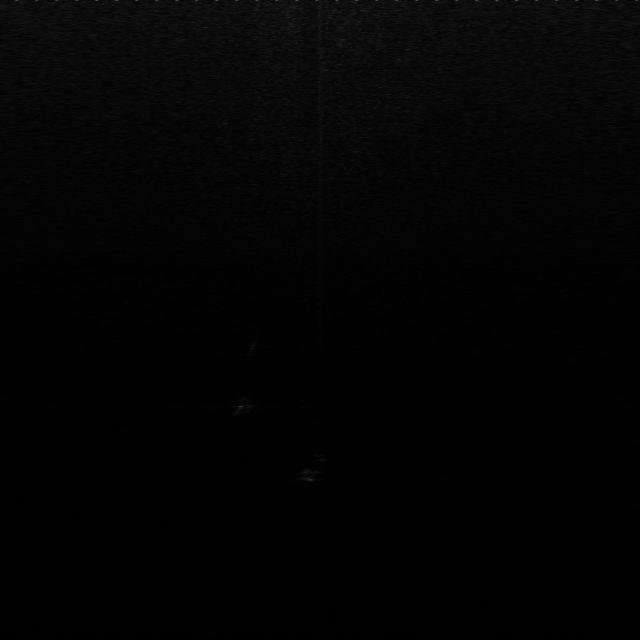circle cage: (224, 393, 264, 424)
tyre: (294, 446, 338, 484)
